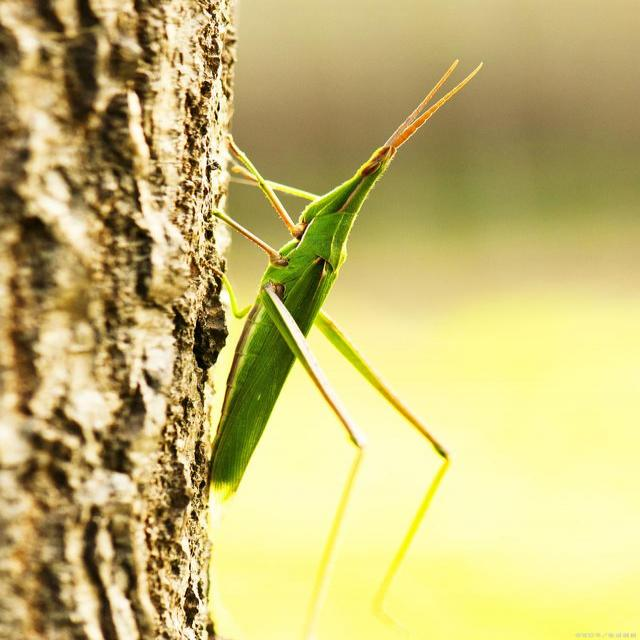ZhaMeng: (153, 41, 557, 572)
